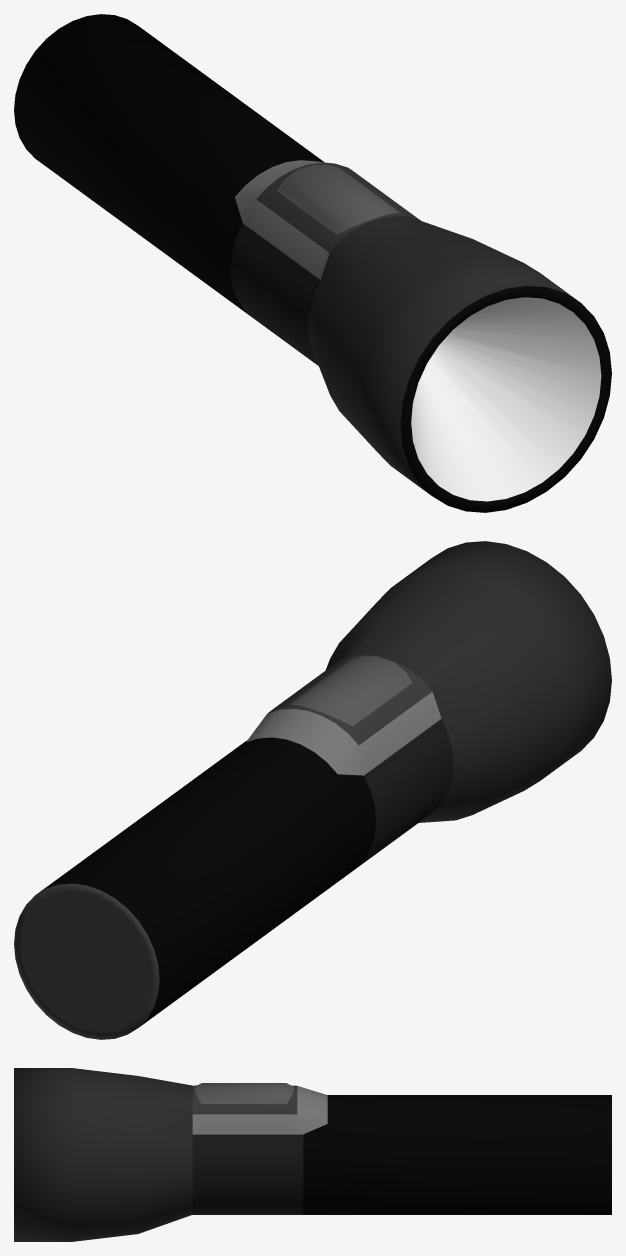
Rendered from flashlight_final.obj.
3 views of the same model, one above another, from view 1: azimuth 30°, elevation 25°; view 2: azimuth 150°, elevation 25°; view 3: azimuth 270°, elevation 25° (orthographic). The views are drawn at different scales.
Parts seen in each view (by area): view 1: Lanterna_Cylinder; view 2: Lanterna_Cylinder; view 3: Lanterna_Cylinder.
Boxes of the visible parts, x1,y1,x2,y2 form: Lanterna_Cylinder: (14, 14, 611, 512); Lanterna_Cylinder: (14, 541, 611, 1039); Lanterna_Cylinder: (14, 1068, 611, 1241).
Size of the model in its own units: 0.0581 by 0.0581 by 0.1996.
1 material, 1 textured.
